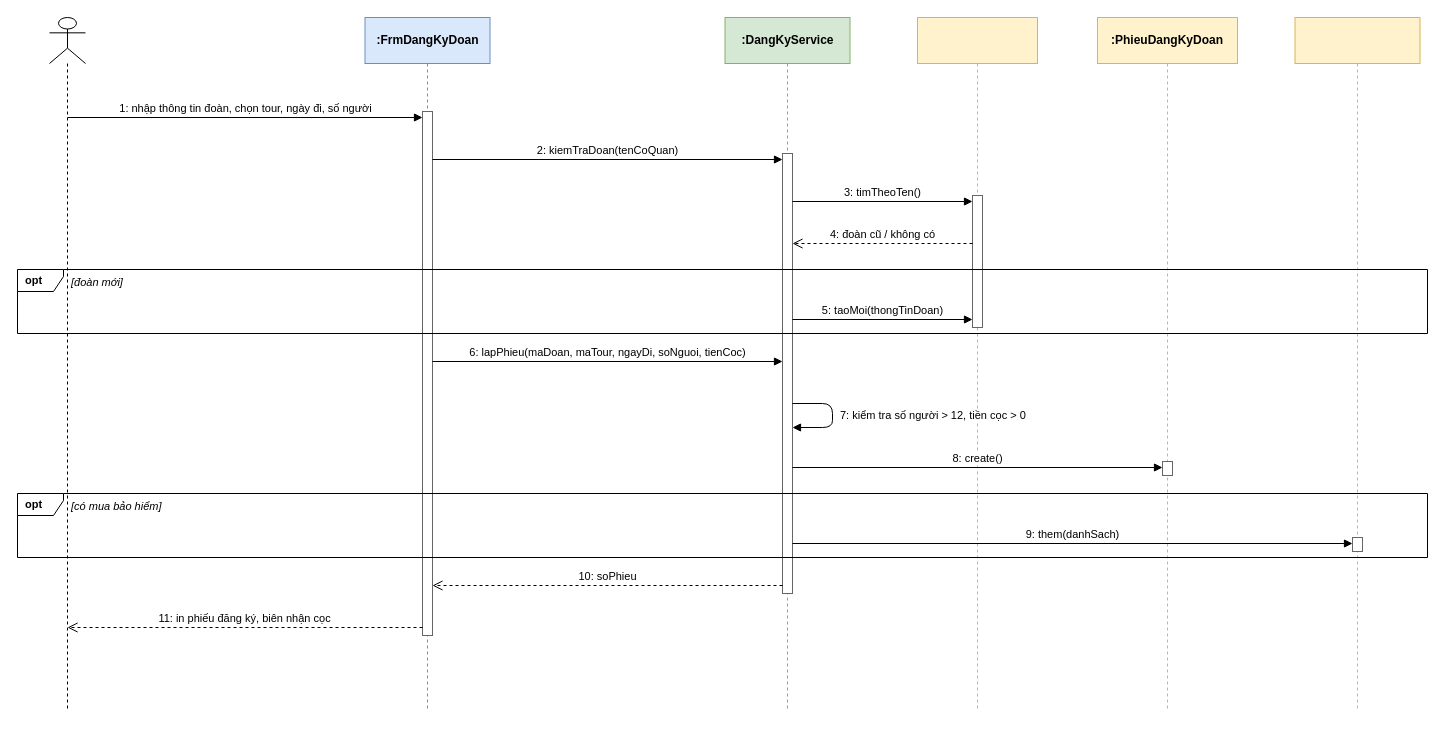
Image size: 1445x748. Some labels were removed from this diagram. The box of each missing label's shape, as (x1, y1, x2, y2) in pixels:
:KhachDoan: (916, 16, 1038, 710)
:ThanhVienDoan: (1294, 16, 1420, 710)
NV kinh doanh: (48, 16, 86, 710)
